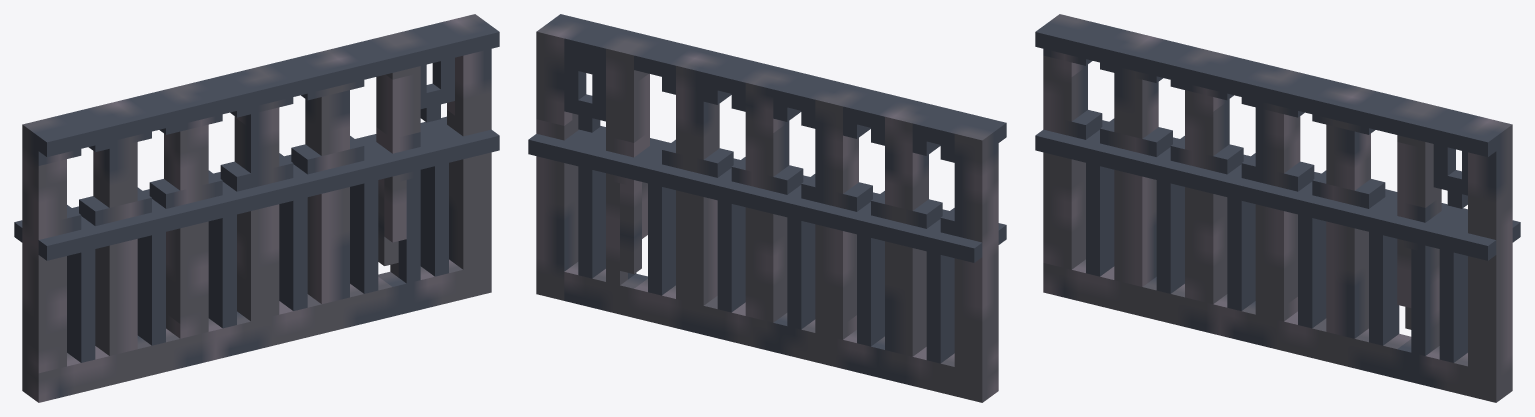
The model's file is FenceModule-4.fbx.
3 views of the same model, side by side, from view 1: azimuth 30°, elevation 25°; view 2: azimuth 150°, elevation 25°; view 3: azimuth 330°, elevation 25° (orthographic).
Parts seen in each view (by area): view 1: FenceModule-4; view 2: FenceModule-4; view 3: FenceModule-4.
Boxes of the visible parts, <box> form: FenceModule-4: <box>14,14,499,402</box>; FenceModule-4: <box>528,14,1006,402</box>; FenceModule-4: <box>1035,14,1520,402</box>.
Size of the model in its own units: 160 by 90 by 20.
